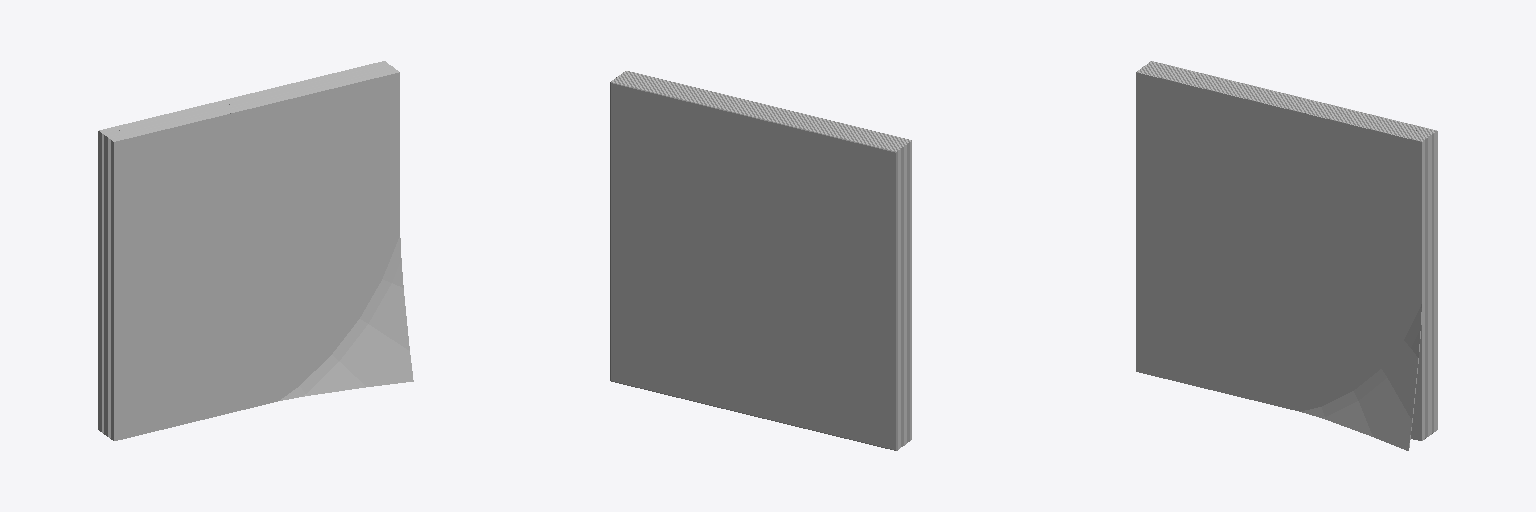
Rendered from postit.obj.
3 views of the same model, side by side, from view 1: azimuth 30°, elevation 25°; view 2: azimuth 150°, elevation 25°; view 3: azimuth 330°, elevation 25° (orthographic).
Visible parts, largest first — view 1: obj_0; view 2: obj_0; view 3: obj_0.
Part boxes in pixels (bbox=[...]): obj_0: bbox=[98, 61, 413, 440]; obj_0: bbox=[610, 71, 911, 450]; obj_0: bbox=[1136, 61, 1437, 450].
Size of the model in its own units: 11.1 by 11.1 by 1.96.